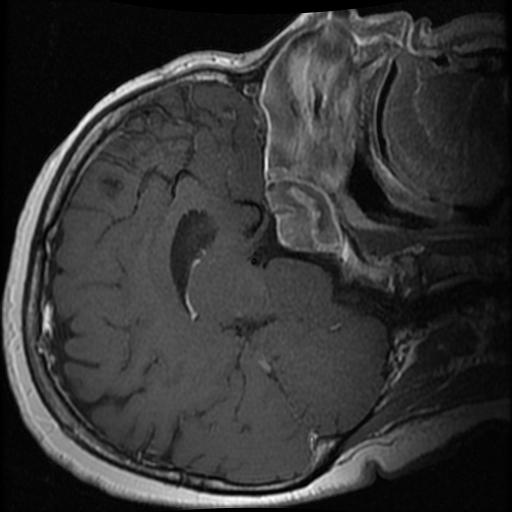pituitary tumour: (277, 213, 312, 250)
